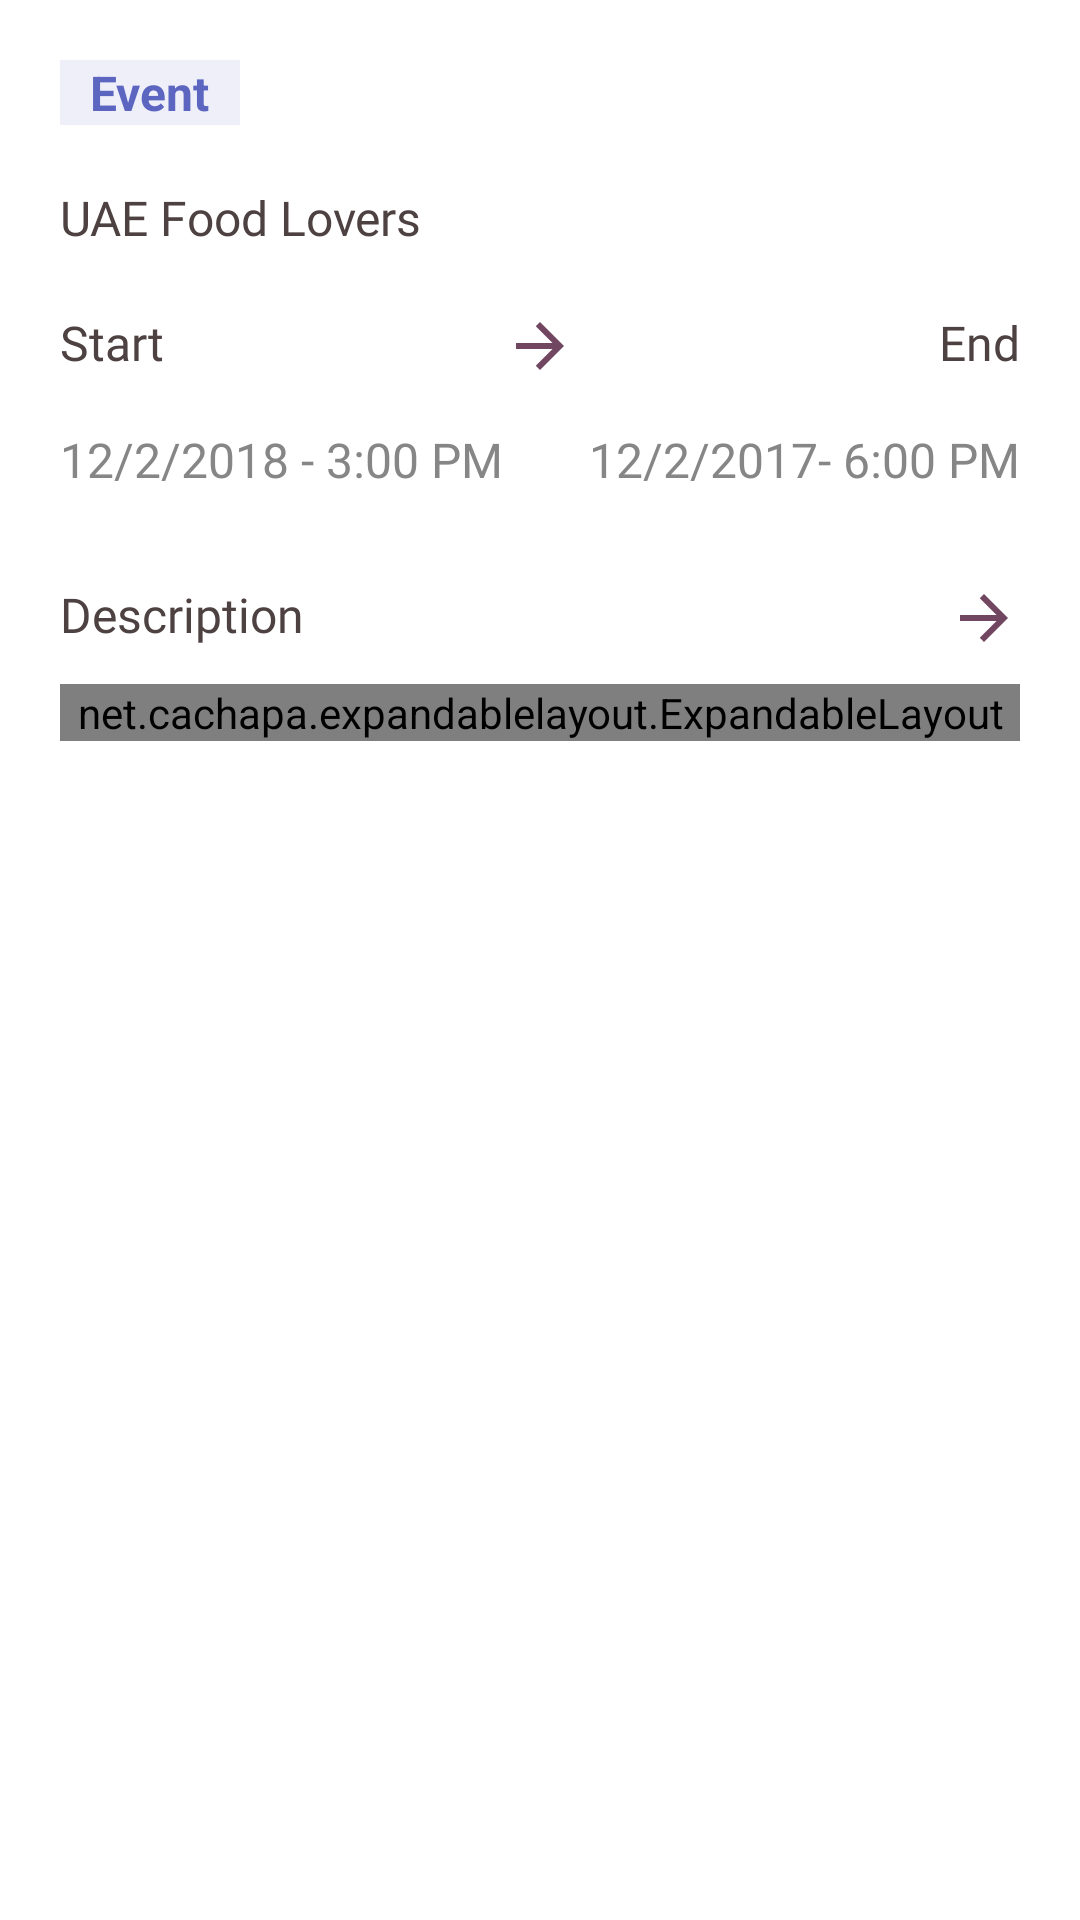

Icon bounding boxes for this 1080px x 1920px phone screenshot, format (x1, y1, x2, y2):
arrow forward: (516, 322, 564, 370)
